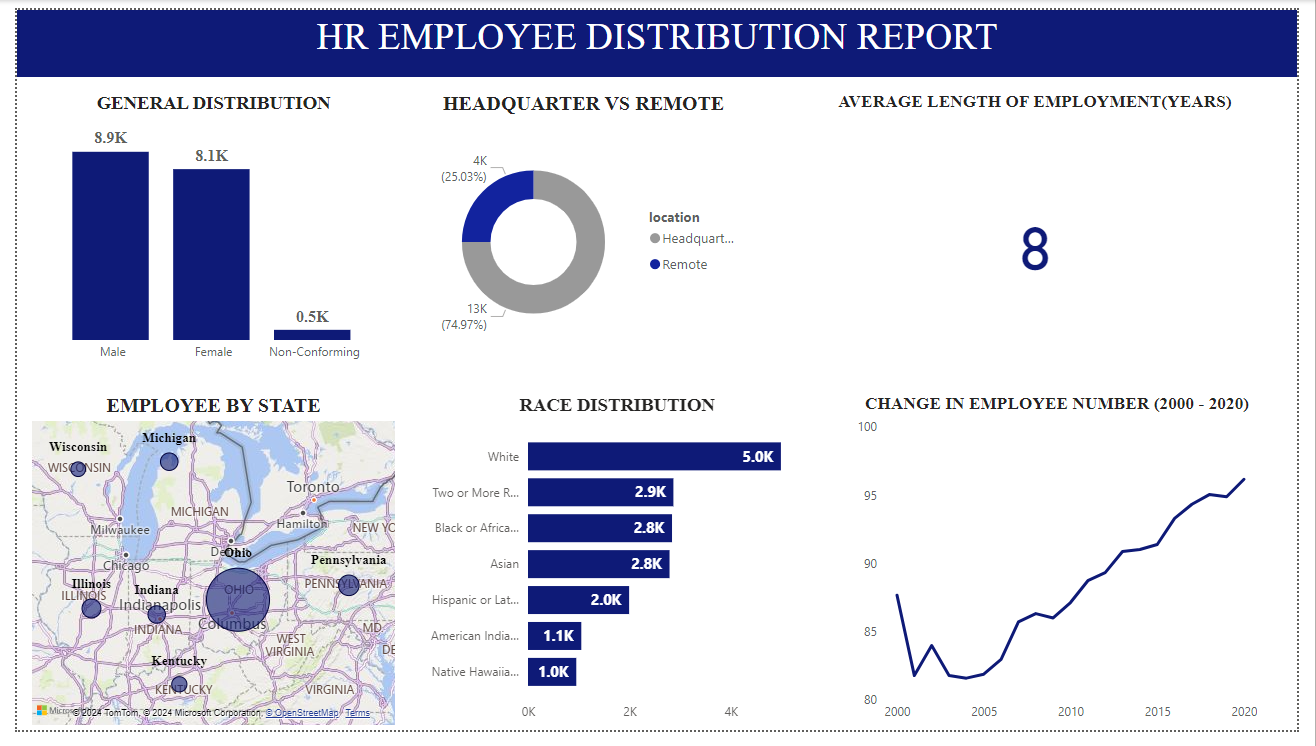

The dashboard page shown, as its layout file describes it:
{"tool":"powerbi","page":{"name":"Page 1","canvas":[1280,720],"ordinal":0},"visuals":[{"type":"textbox","box":[0,0,1280,67.1],"z":0},{"type":"card","title":"AVERAGE LENGTH OF EMPLOYMENT(YEARS)","fields":{"Values":["Sum(avg_length_employment.avg_length_employment)"]},"box":[790.8,81.7,454.2,278.2],"z":1000},{"type":"columnChart","title":"GENERAL DISTRIBUTION","fields":{"Category":["gender.gender"],"Y":["Sum(gender.count)"]},"box":[9.7,81.7,373.5,278.2],"z":2000},{"type":"donutChart","title":"HEADQUARTER VS REMOTE","fields":{"Category":["location.location"],"Y":["Sum(location.count)"]},"box":[395.9,81.7,341.4,278.2],"z":3000},{"type":"lineChart","title":"CHANGE IN EMPLOYEE NUMBER (2000 - 2020)","fields":{"Y":["Sum(employee_change.net_change_percentage)"],"Category":["employee_change.year"]},"box":[834.5,384.2,410.5,335.6],"z":4000},{"type":"map","title":"EMPLOYEE BY STATE","fields":{"Size":["Sum(state.count)"],"Category":["state.location_state"]},"box":[9.7,384.2,373.5,335.6],"z":5000},{"type":"clusteredBarChart","title":"RACE DISTRIBUTION","fields":{"Category":["race.race"],"Y":["Sum(race.count)"]},"box":[395.9,384.2,408.5,335.6],"z":6000}]}

Visuals, with their boxes in screenshot pixels (x1, y1, x2, y2), scaled from the page's 1280x720 canvas onto the 1316x746 screenshot:
textbox: {"left": 0, "top": 0, "right": 1315, "bottom": 70}
"AVERAGE LENGTH OF EMPLOYMENT(YEARS)" card: {"left": 813, "top": 85, "right": 1280, "bottom": 373}
"GENERAL DISTRIBUTION" columnChart: {"left": 10, "top": 85, "right": 394, "bottom": 373}
"HEADQUARTER VS REMOTE" donutChart: {"left": 407, "top": 85, "right": 758, "bottom": 373}
"CHANGE IN EMPLOYEE NUMBER (2000 - 2020)" lineChart: {"left": 858, "top": 398, "right": 1280, "bottom": 745}
"EMPLOYEE BY STATE" map: {"left": 10, "top": 398, "right": 394, "bottom": 745}
"RACE DISTRIBUTION" clusteredBarChart: {"left": 407, "top": 398, "right": 827, "bottom": 745}
